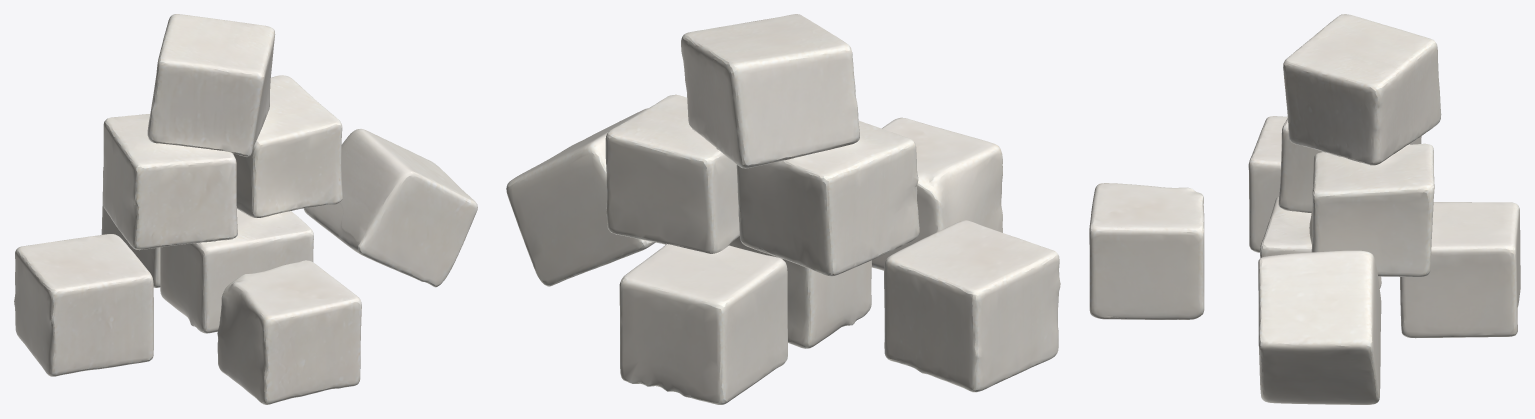
Rendered from lod_basic_pbr.fbx.
3 renders of one model, left to right at view 1: azimuth 30°, elevation 25°; view 2: azimuth 150°, elevation 25°; view 3: azimuth 270°, elevation 25°, orthographic. The views are drawn at different scales.
Visible parts, largest first — view 1: model_LOD0; view 2: model_LOD0; view 3: model_LOD0.
Boxes of the visible parts, x1,y1,x2,y2 form: model_LOD0: (14, 14, 477, 404); model_LOD0: (506, 14, 1060, 404); model_LOD0: (1089, 14, 1520, 404).
Size of what is drawn, in the model's own units: 190 by 109 by 158.
1 material, 1 textured.
